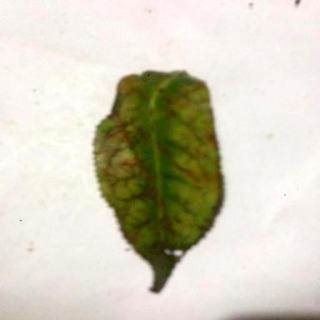Red Leaf Spot: (94, 72, 225, 292)
